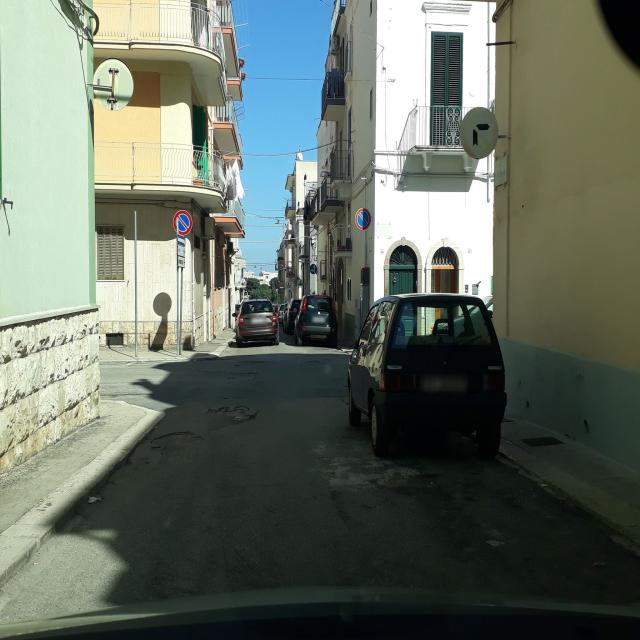forb_stopping: (172, 209, 193, 236), (355, 207, 372, 231)
